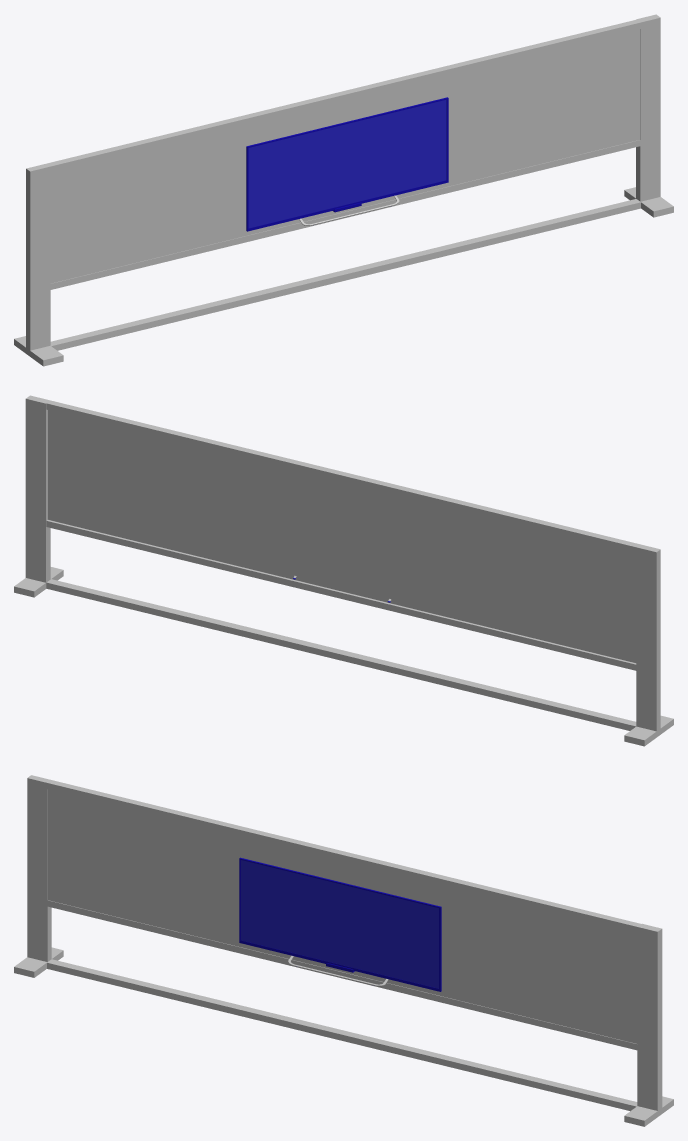
File: board.obj
The picture shows the model from 3 angles, top to bottom: view 1: azimuth 30°, elevation 25°; view 2: azimuth 150°, elevation 25°; view 3: azimuth 330°, elevation 25°; orthographic projection.
Parts seen in each view (by area): view 1: 3d-model, tv; view 2: 3d-model; view 3: 3d-model, tv.
Part boxes in pixels (x1,y1,x2,y2): 3d-model: (14,14,673,366); tv: (246,97,448,231); 3d-model: (14,395,673,746); 3d-model: (14,775,673,1126); tv: (239,857,441,991).
Size of the model in its own units: 219 by 61.45 by 17.68.
